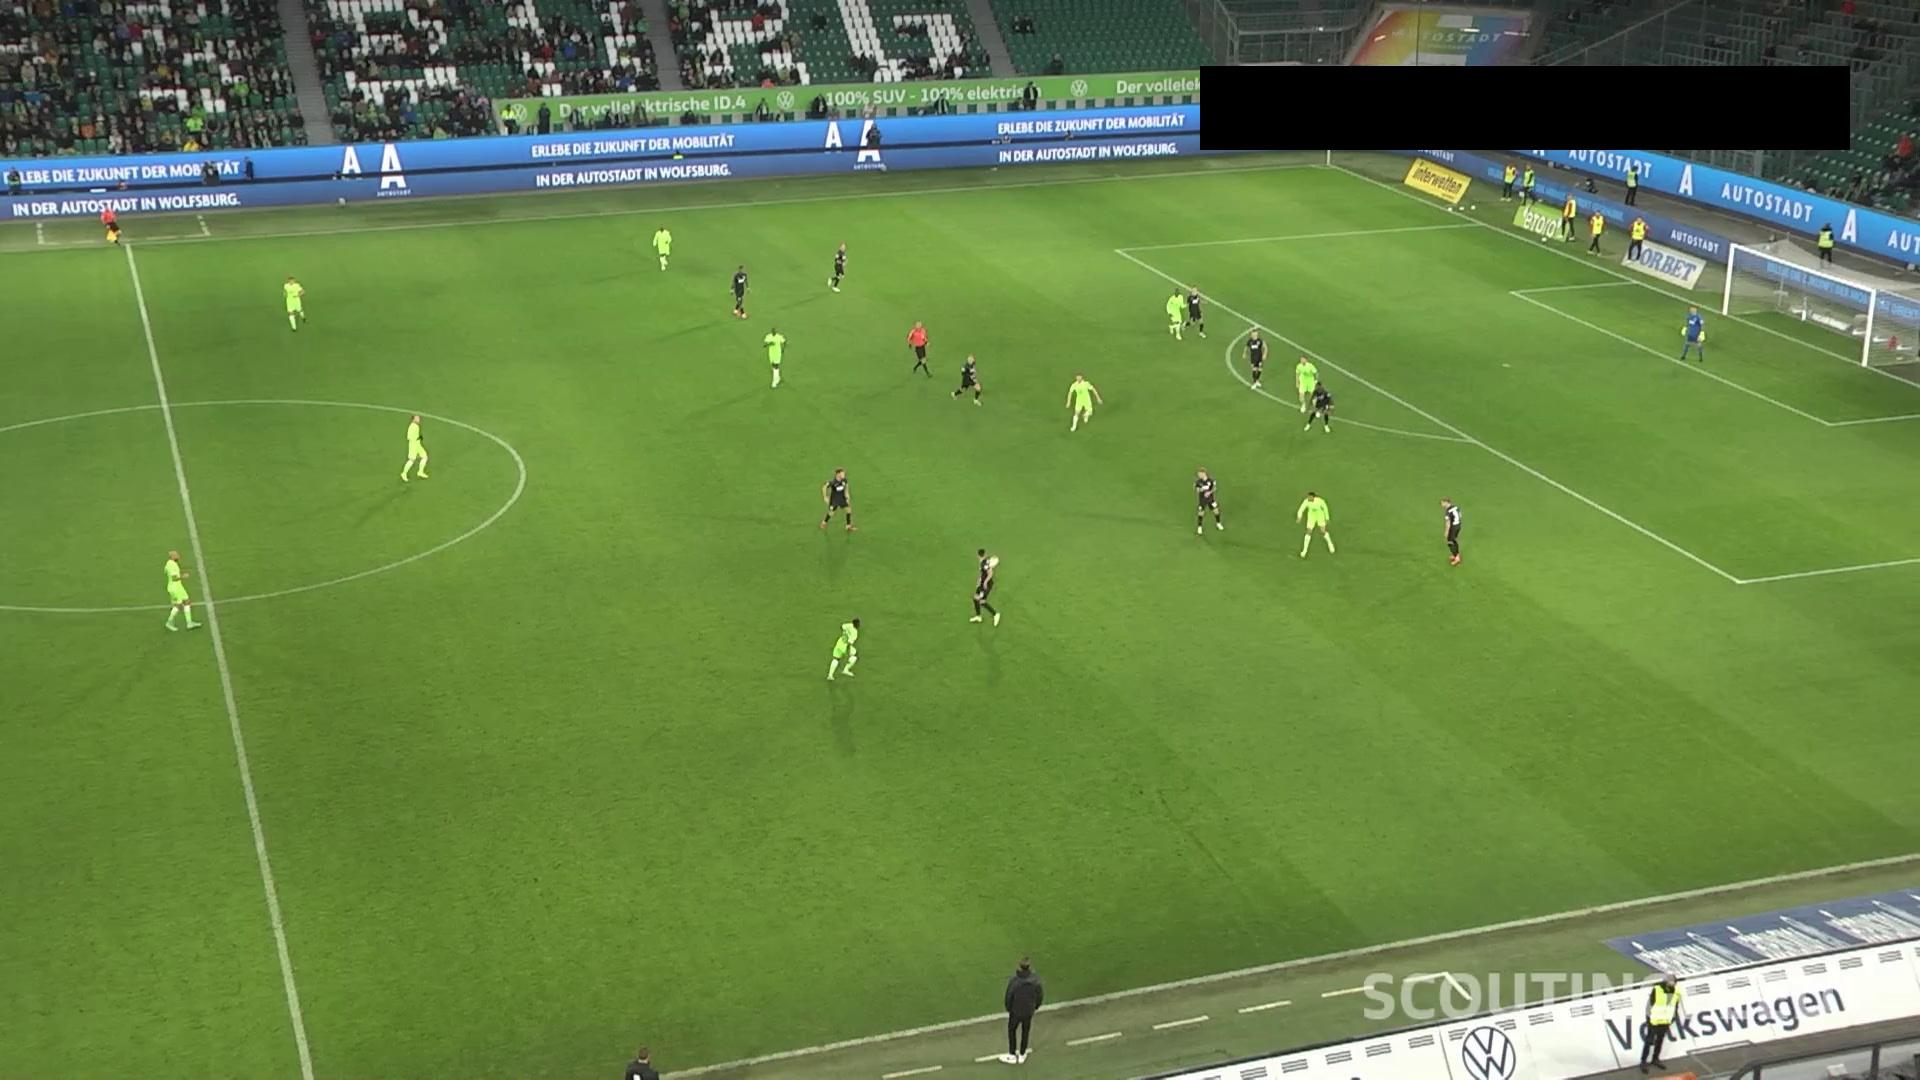Location-of-ball: (984, 543, 1010, 572)
